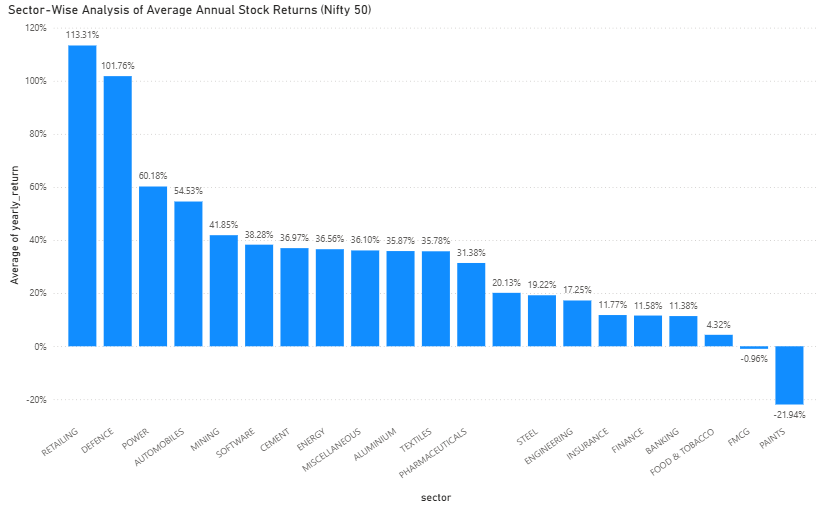

What the dashboard file says about the page in this screenshot:
{"tool":"powerbi","page":{"name":"Page 8","canvas":[1280,720],"ordinal":7},"visuals":[{"type":"columnChart","title":"Sector-Wise Analysis of Average Annual Stock Returns (Nifty 50)","fields":{"Category":["sector_performance.sector"],"Y":["Avg(sector_performance.yearly_return)"]},"box":[107.5,22.5,1090,675],"z":0}]}

Visuals, with their boxes on the page's 1280x720 design canvas (x1, y1, x2, y2). These are canvas units, not pixel positions in the 828x513 screenshot, which may show the page scaled, cropped or inside an application window:
"Sector-Wise Analysis of Average Annual Stock Returns (Nifty 50)" columnChart: bbox=[108, 22, 1198, 698]
